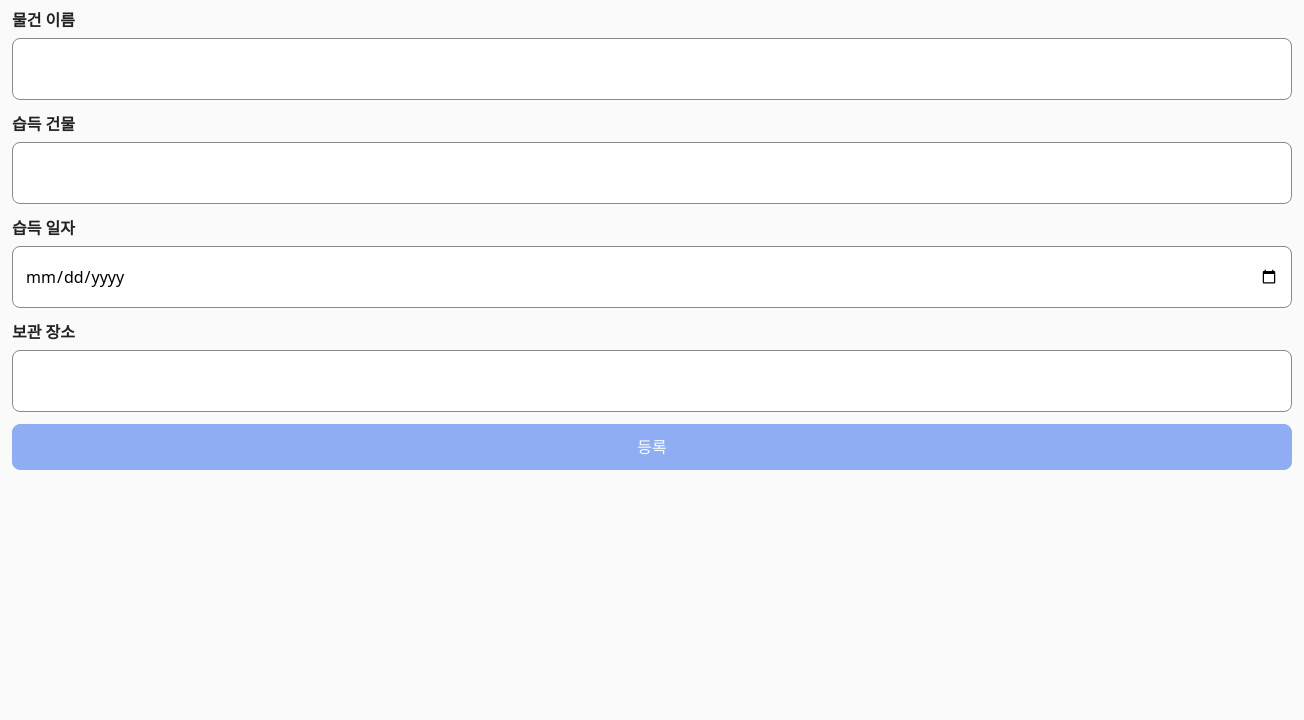
Scenario: ItemForm › 등록이 실패하면 서버 메시지를 alert로 보여 준다
Type "지갑" into the field labelled "물건 이름" at (652, 69), box x1=12 y1=38 x2=1292 y2=100
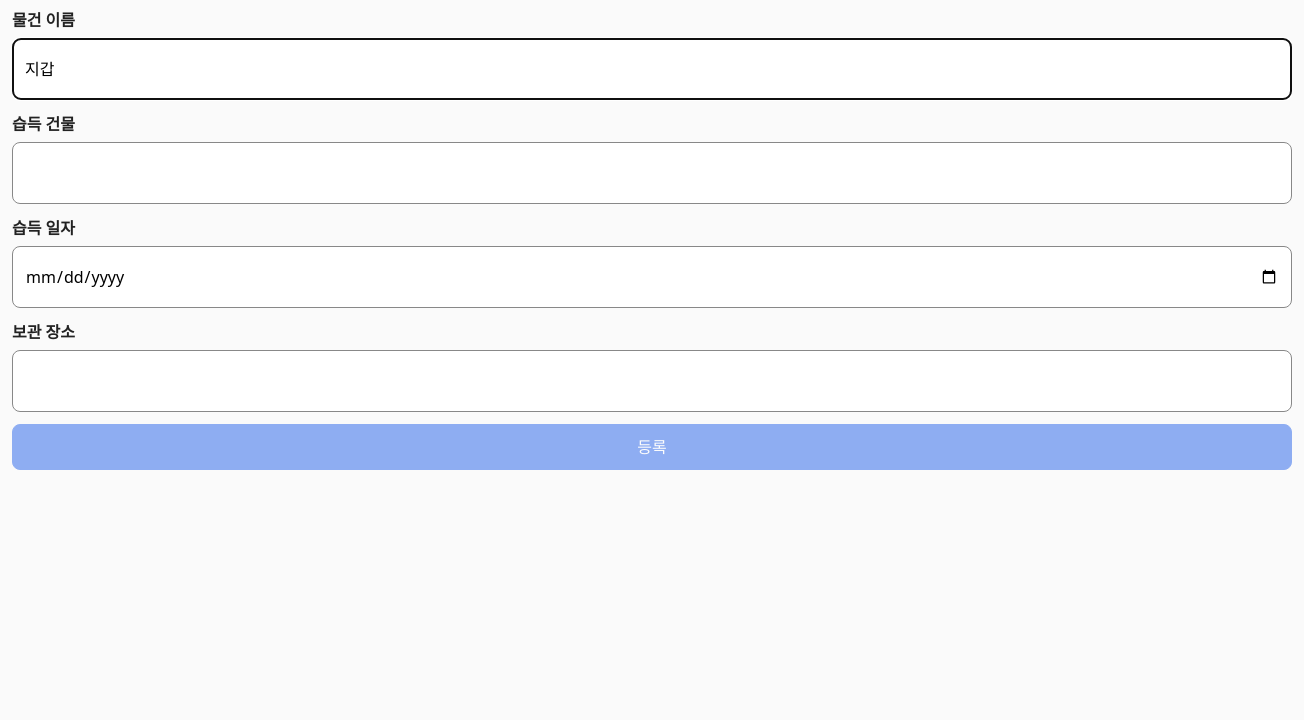
Type "공학관" into the field labelled "습득 건물" at (652, 173), box x1=12 y1=142 x2=1292 y2=204
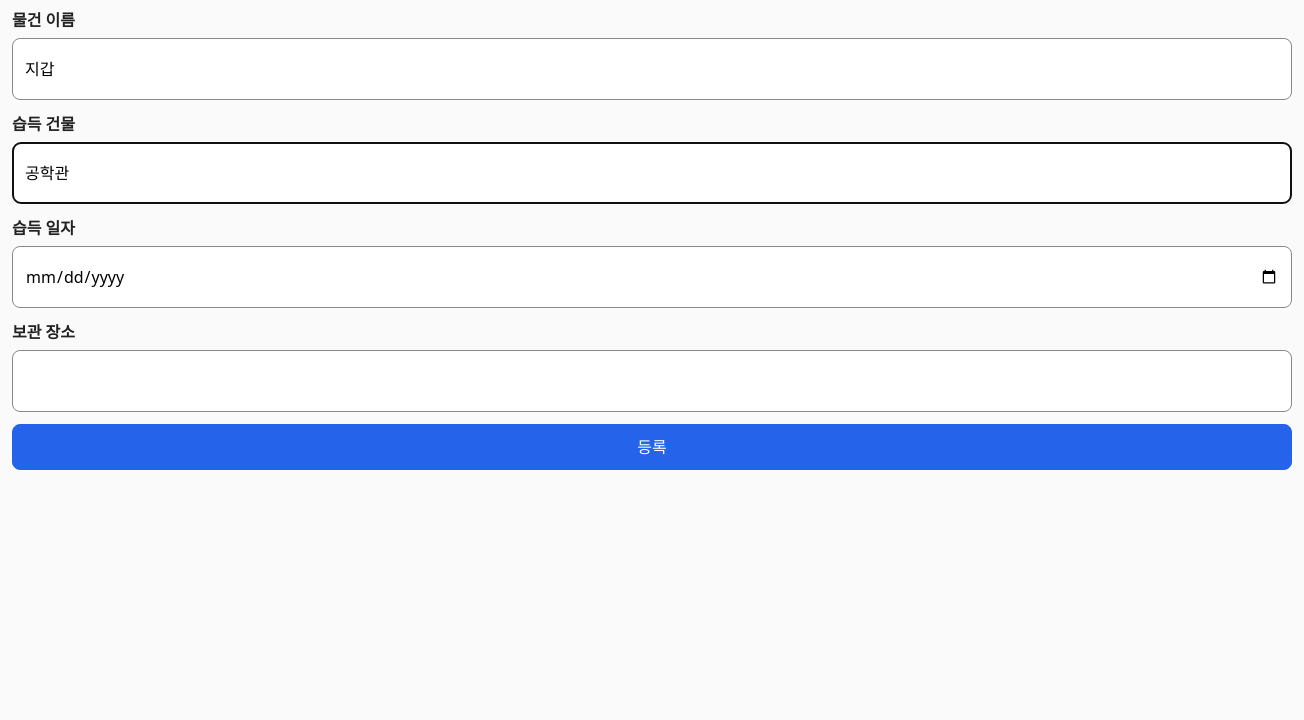
Click the button "등록" at (652, 447), box x1=12 y1=424 x2=1292 y2=470
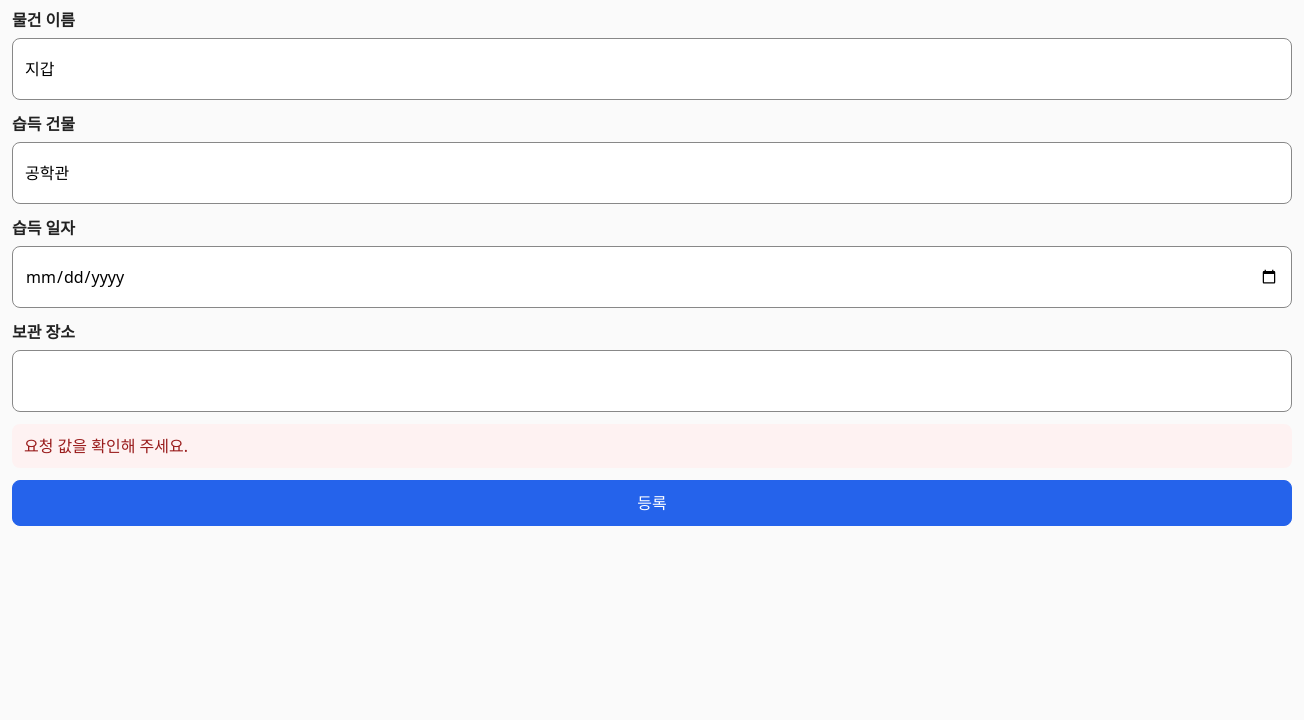
Now the message reads "요청 값을 확인해 주세요.", box x1=24 y1=435 x2=188 y2=457
